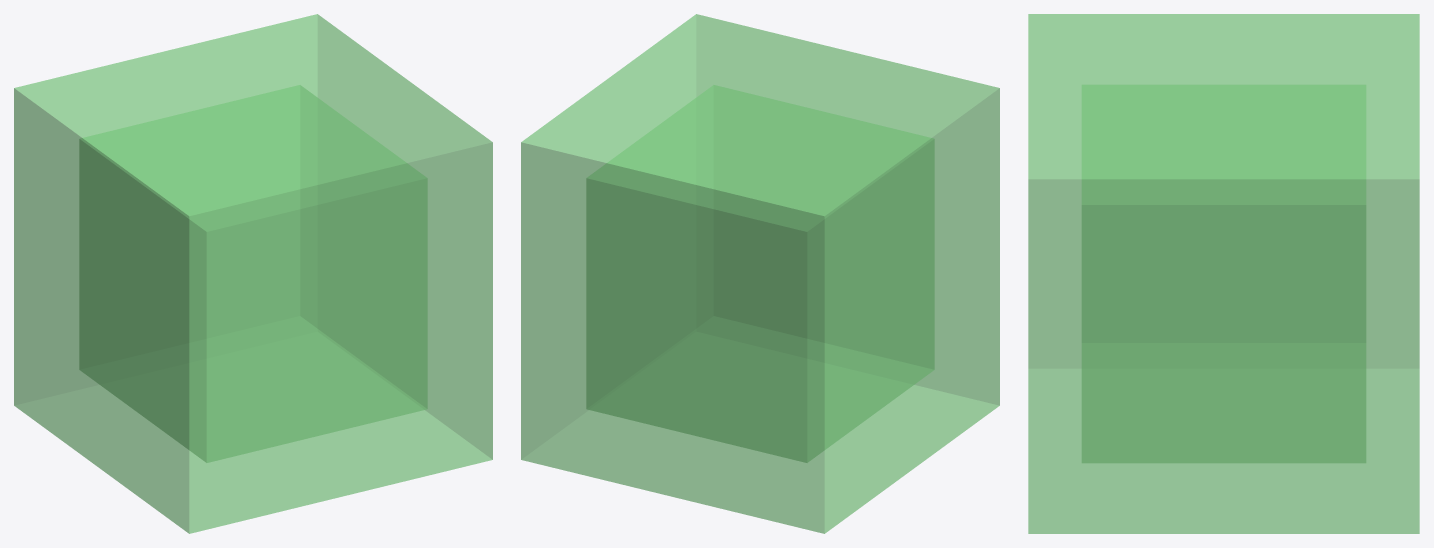
File: Slime Idle.fbx
3 views of the same model, side by side, from view 1: azimuth 30°, elevation 25°; view 2: azimuth 150°, elevation 25°; view 3: azimuth 270°, elevation 25° (orthographic). The views are drawn at different scales.
Visible parts, largest first — view 1: slime; view 2: slime; view 3: slime.
Boxes of the visible parts, x1,y1,x2,y2 form: slime: (14, 14, 492, 533); slime: (521, 14, 999, 533); slime: (1028, 14, 1419, 533).
Size of the model in its own units: 1.2 by 1.2 by 1.2.
